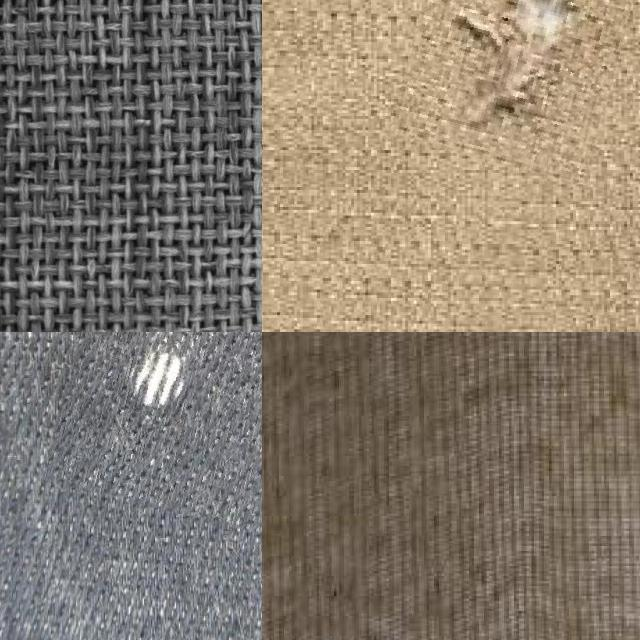Thread_other: (55, 332, 262, 521)
seam: (400, 0, 628, 175)
